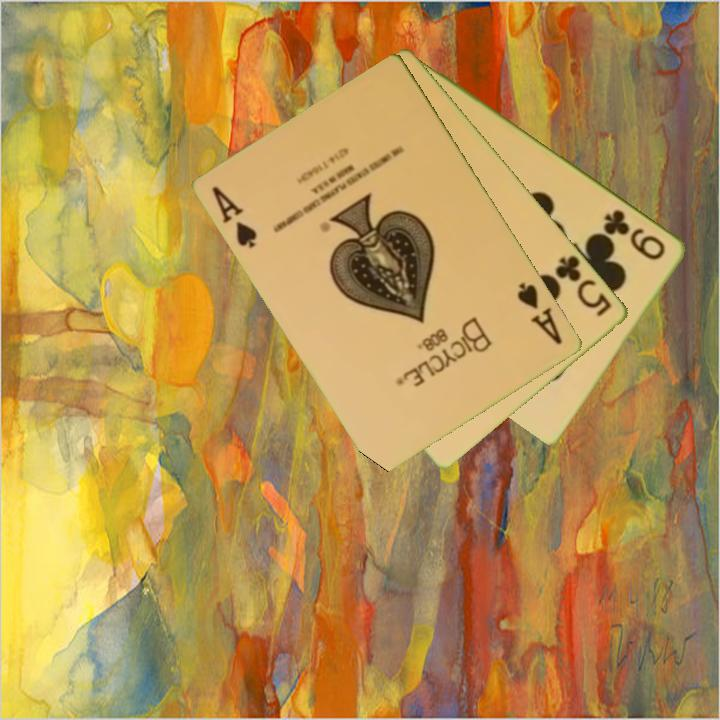5c: (552, 251, 615, 320)
9c: (601, 206, 669, 263)
As: (514, 278, 566, 348), (208, 183, 261, 251)
